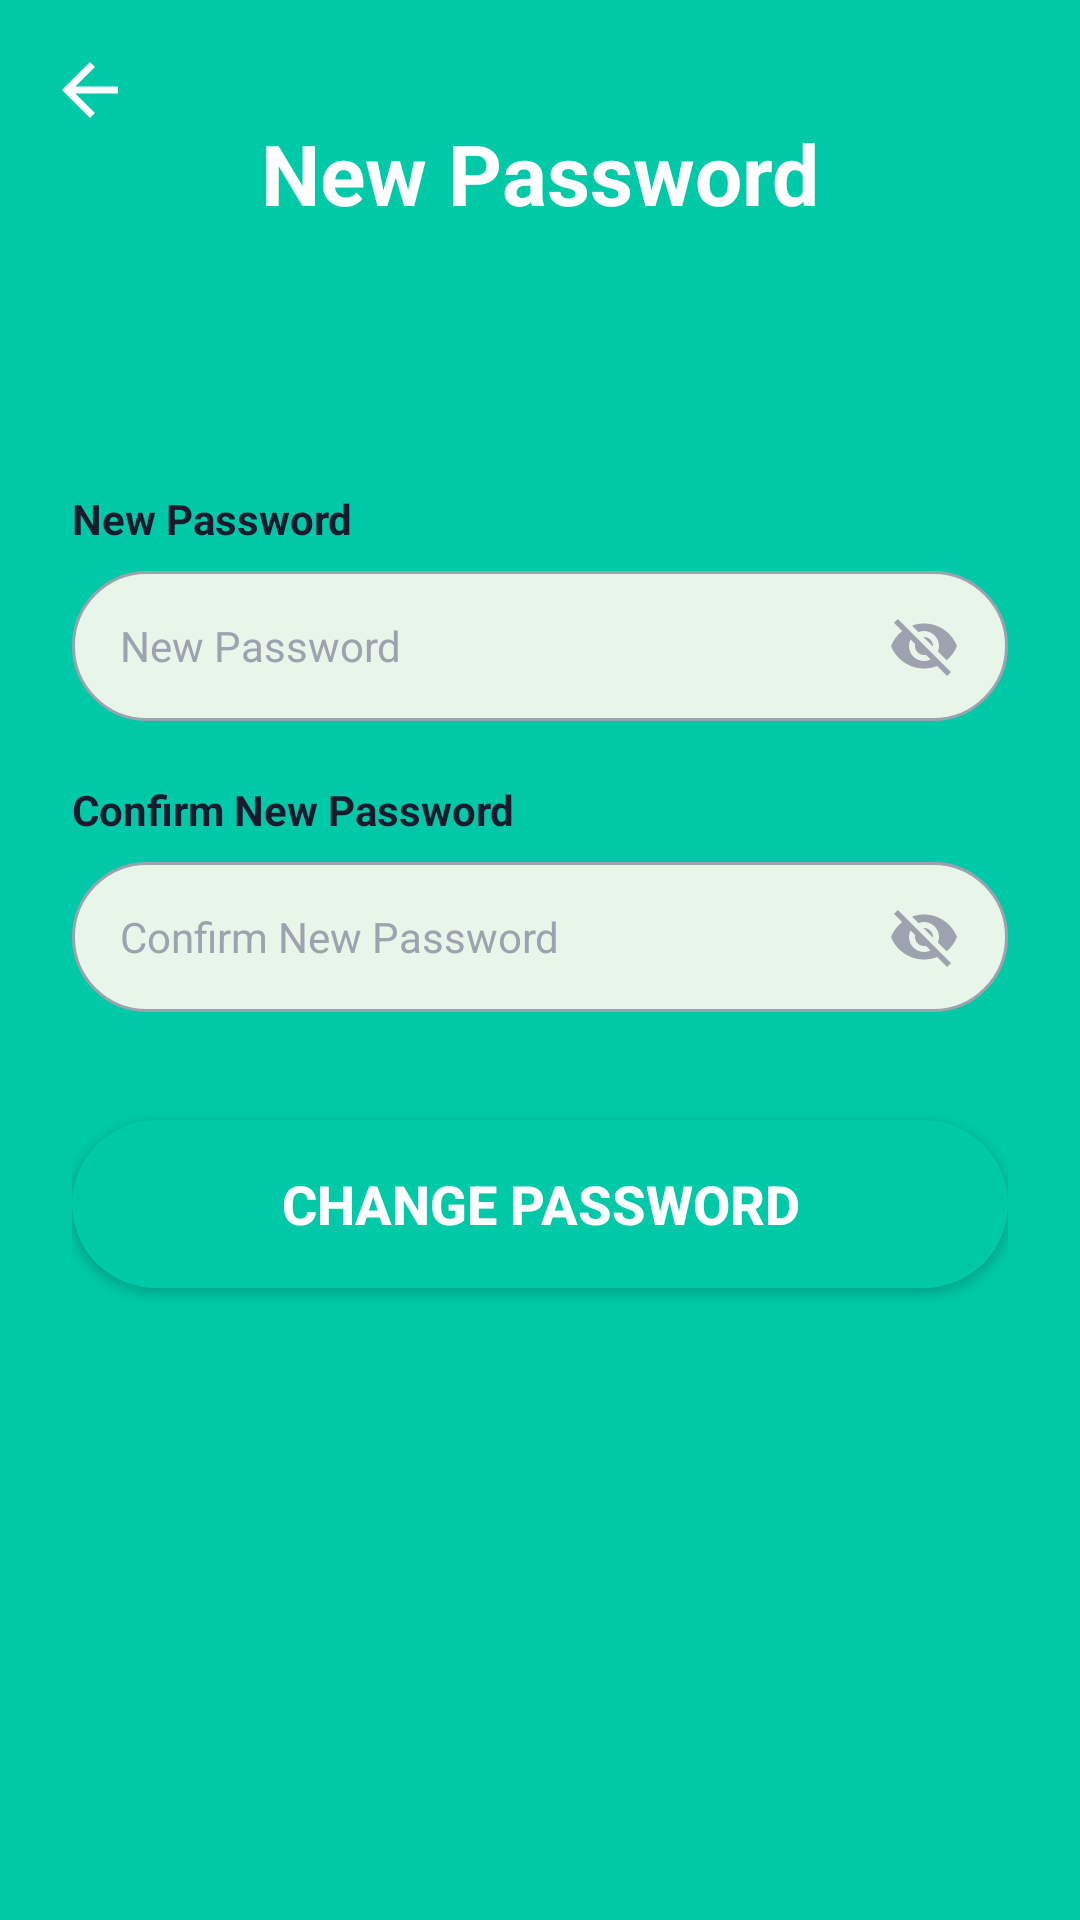

Icon bounding boxes for this 1080 × 1920 phone screenshot, format (x1, y1, x2, y2):
Back: (62, 62, 118, 118)
Toggle password visibility: (891, 619, 957, 676), (891, 910, 957, 967)
